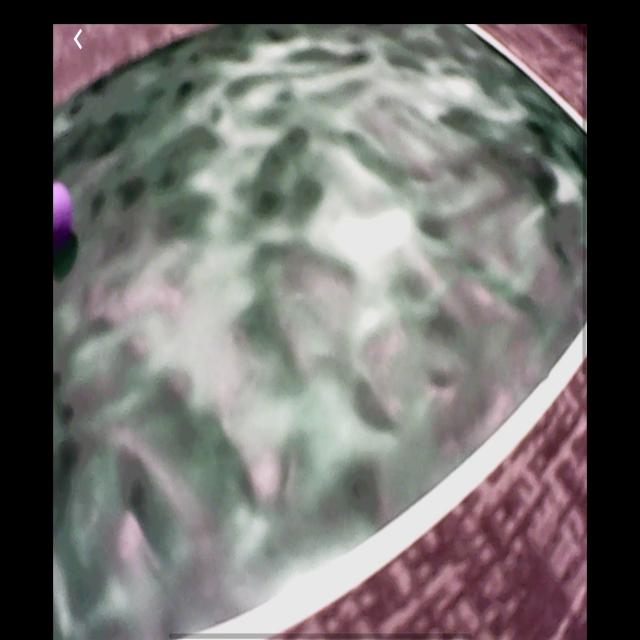ball: (53, 185, 74, 244)
